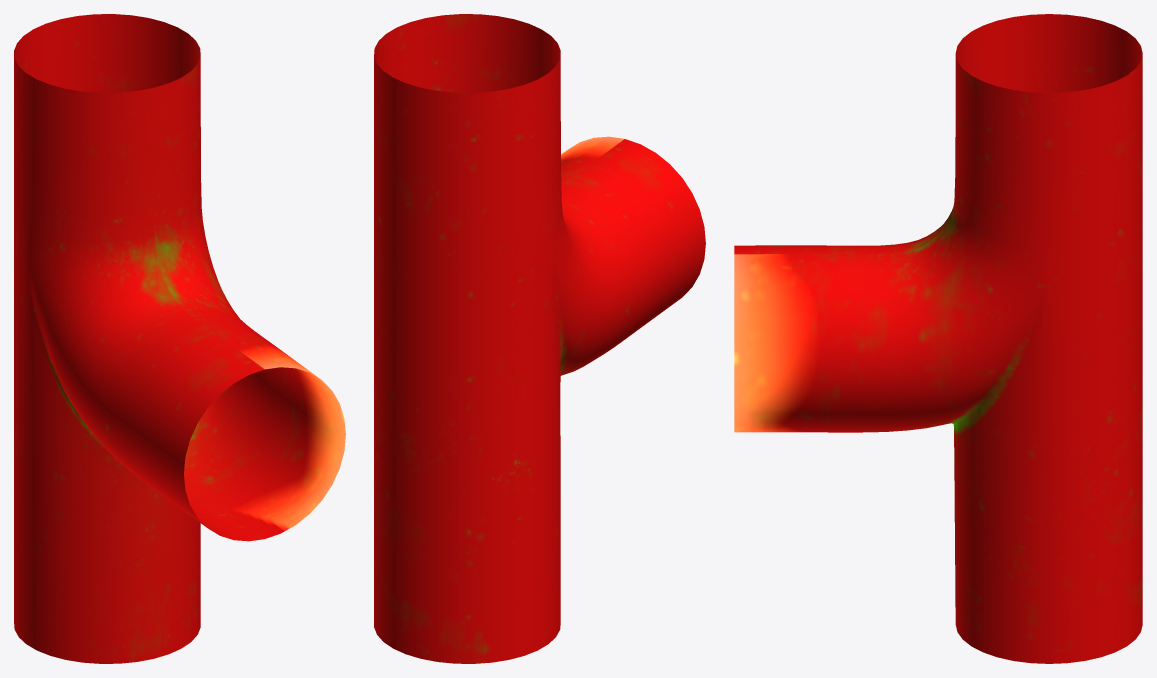
Rendered from SM_PlasticPipe_branch_02.fbx.
The picture shows the model from 3 angles, left to right: view 1: azimuth 30°, elevation 25°; view 2: azimuth 150°, elevation 25°; view 3: azimuth 270°, elevation 25°; orthographic projection.
Parts seen in each view (by area): view 1: SM_PlasticPipe_branch_02_LOD0; view 2: SM_PlasticPipe_branch_02_LOD0; view 3: SM_PlasticPipe_branch_02_LOD0.
Boxes of the visible parts, left/top/right/bottom form: SM_PlasticPipe_branch_02_LOD0: left=14, top=14, right=345, bottom=663; SM_PlasticPipe_branch_02_LOD0: left=374, top=14, right=705, bottom=663; SM_PlasticPipe_branch_02_LOD0: left=734, top=14, right=1142, bottom=663.
Size of the model in its own units: 15.13 by 32.43 by 50.
